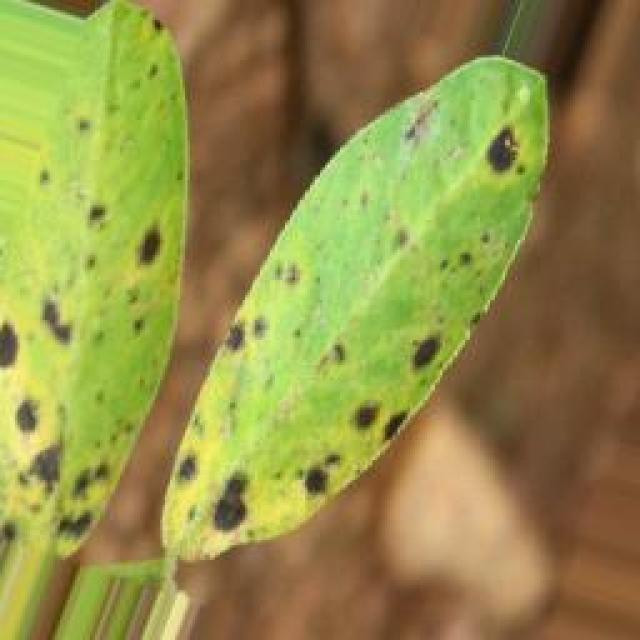Yellowish: (168, 25, 533, 554), (0, 3, 230, 545)
